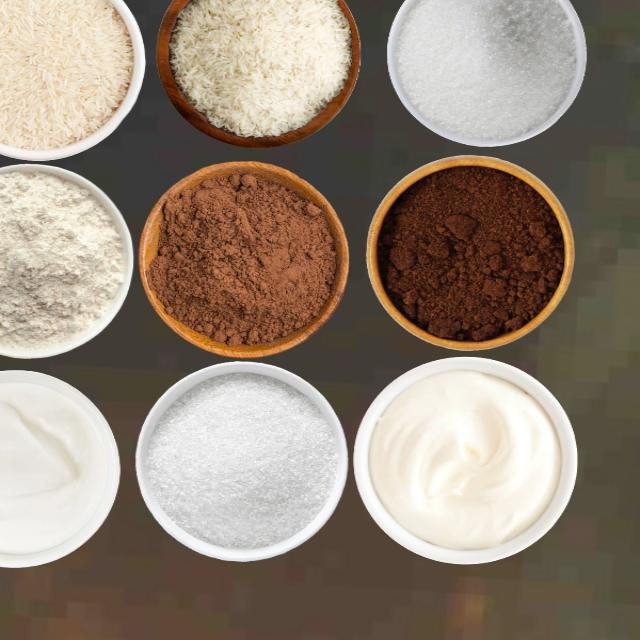Cocoa: (147, 170, 337, 346)
Coffee: (376, 161, 566, 343)
Flour: (0, 170, 124, 351)
Sugar: (145, 372, 338, 549), (394, 0, 578, 141)
